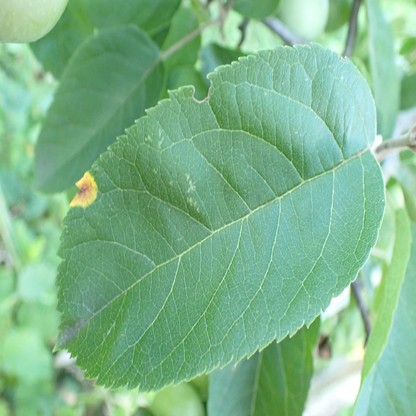powdery_mildew: (58, 317, 90, 347)
rust: (71, 172, 98, 207)
